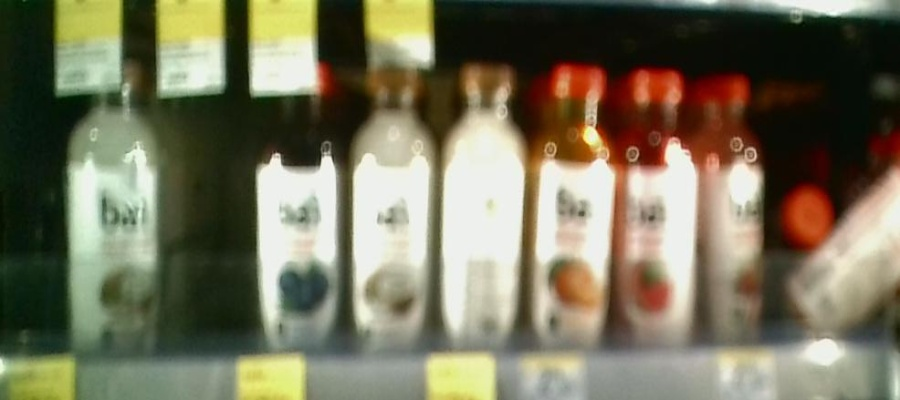bottle: (61, 51, 159, 360), (437, 53, 528, 355), (254, 62, 348, 349), (349, 57, 436, 351), (618, 59, 704, 349), (531, 59, 616, 352), (703, 63, 769, 342), (784, 174, 837, 261)
